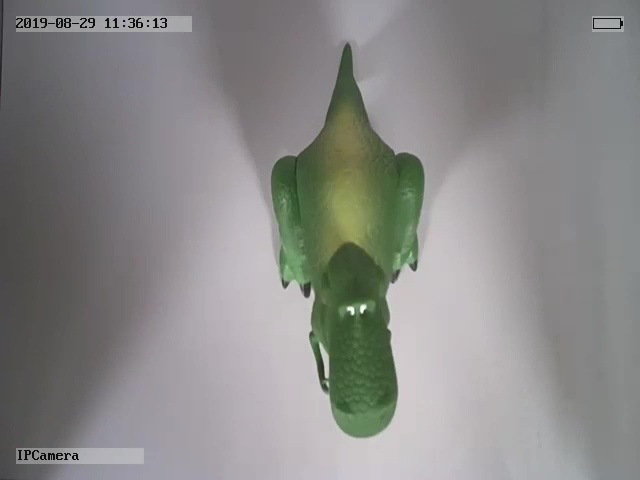rex: (266, 42, 428, 438)
